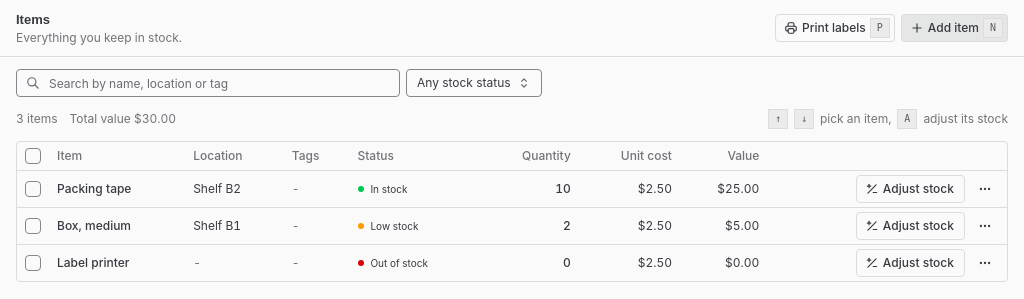
it: ItemsPage › filters the list as the search text changes
Step 1. Type "shelf b2" into the search field → (208, 83), box [16,69,400,97]
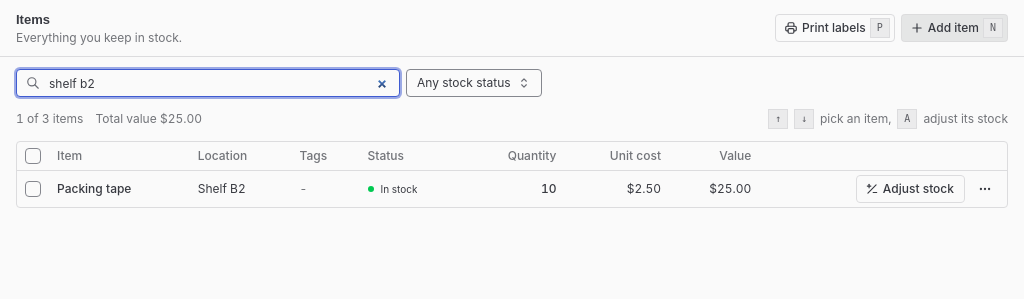
Check: the cell "Box, medium" is gone
Check: the text "1 of 3 items" is shown, box [16,111,83,127]
Check: the text "Total value $25.00" is shown, box [95,111,202,127]
